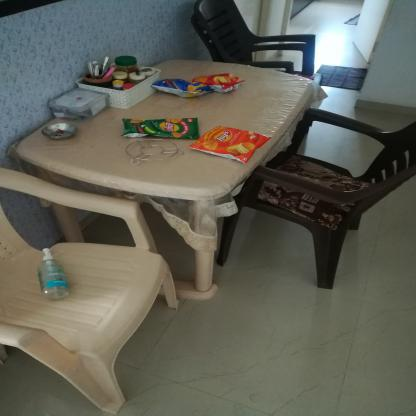chile_limon: (114, 115, 205, 140)
hot_and_sweet: (192, 126, 271, 163)
indian_magic_masala: (155, 75, 208, 97)
tangy_tomato: (195, 69, 253, 98)
